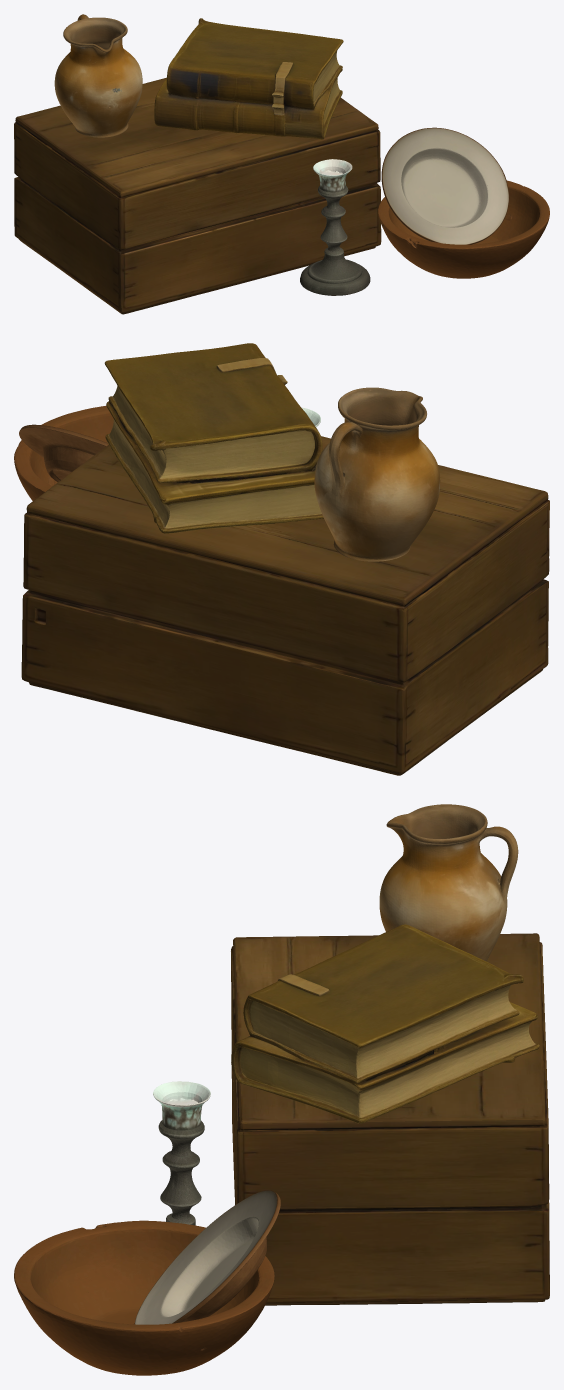
The model's file is phi-scene.glb.
The picture shows the model from 3 angles, top to bottom: view 1: azimuth 30°, elevation 25°; view 2: azimuth 150°, elevation 25°; view 3: azimuth 270°, elevation 25°; orthographic projection. The views are drawn at different scales.
Parts seen in each view (by area): view 1: object_05, object_04, object_03, object_01, object_02, object_00; view 2: object_05, object_04, object_01, object_02, object_03; view 3: object_05, object_04, object_02, object_01, object_03, object_00.
Boxes of the visible parts, left/top/right/bottom form: object_05: left=14, top=77, right=381, bottom=314; object_04: left=154, top=18, right=343, bottom=139; object_03: left=381, top=127, right=509, bottom=244; object_01: left=54, top=14, right=142, bottom=137; object_02: left=378, top=180, right=549, bottom=278; object_00: left=300, top=159, right=370, bottom=295; object_05: left=21, top=436, right=549, bottom=775; object_04: left=104, top=343, right=323, bottom=533; object_01: left=314, top=387, right=440, bottom=561; object_02: left=14, top=406, right=113, bottom=500; object_03: left=19, top=424, right=108, bottom=482; object_05: left=231, top=933, right=549, bottom=1305; object_04: left=231, top=924, right=539, bottom=1123; object_02: left=14, top=1220, right=274, bottom=1375; object_01: left=379, top=804, right=518, bottom=961; object_03: left=134, top=1190, right=280, bottom=1324; object_00: left=153, top=1081, right=210, bottom=1225.
Size of the model in its own units: 1.18 by 0.6445 by 0.9332.
Materials: 6 (6 with a texture image).
